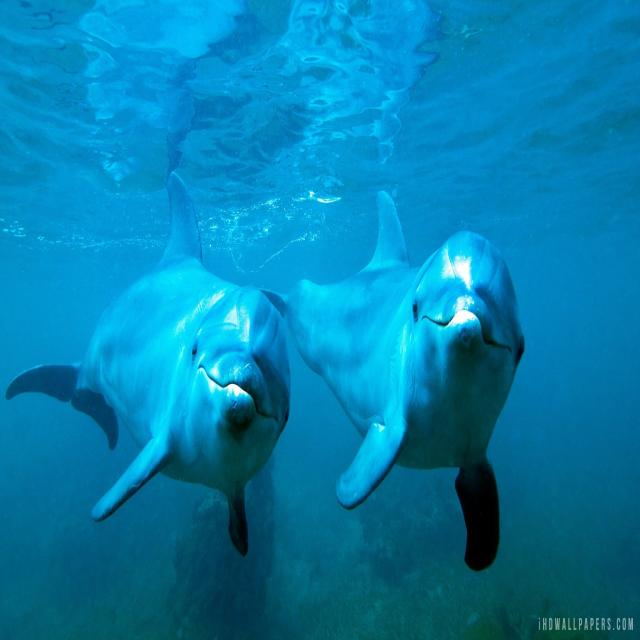dolphin: (3, 141, 288, 626), (293, 163, 522, 574)
